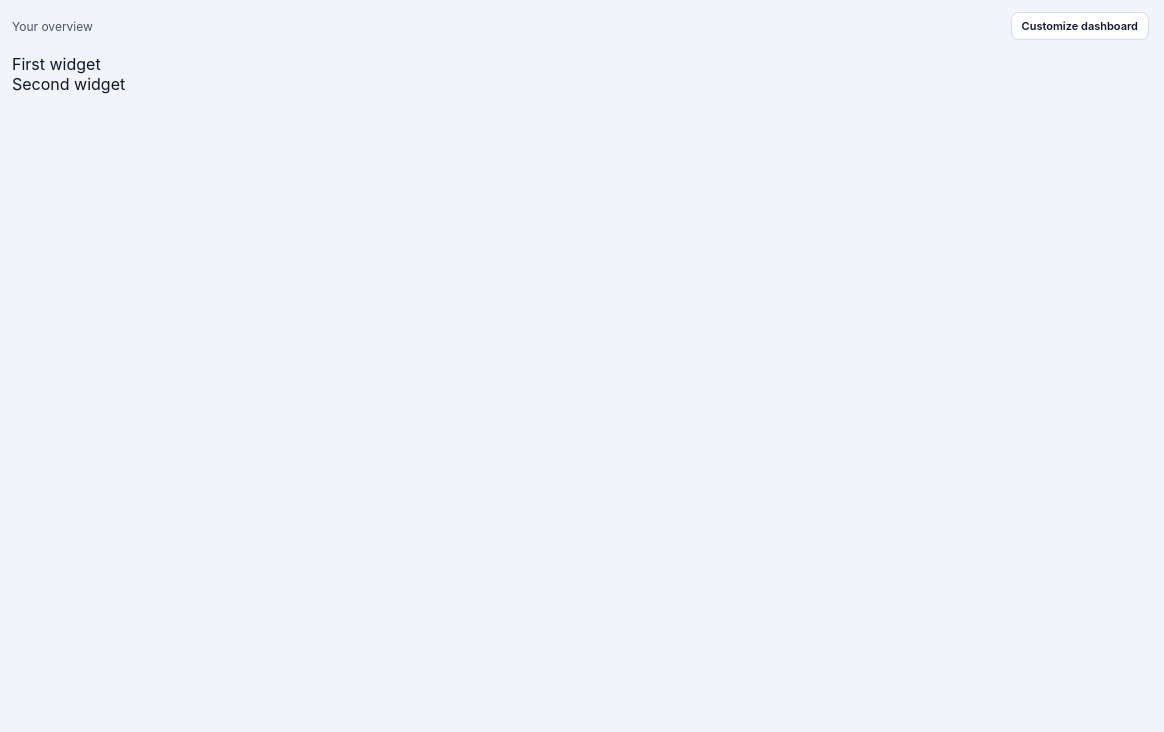
it: can undo layout reset and ignores malformed browser preferences
This screenshot has width=1164, height=732.
Click the button "Customize dashboard": click(1080, 26) [1011,12,1149,40]
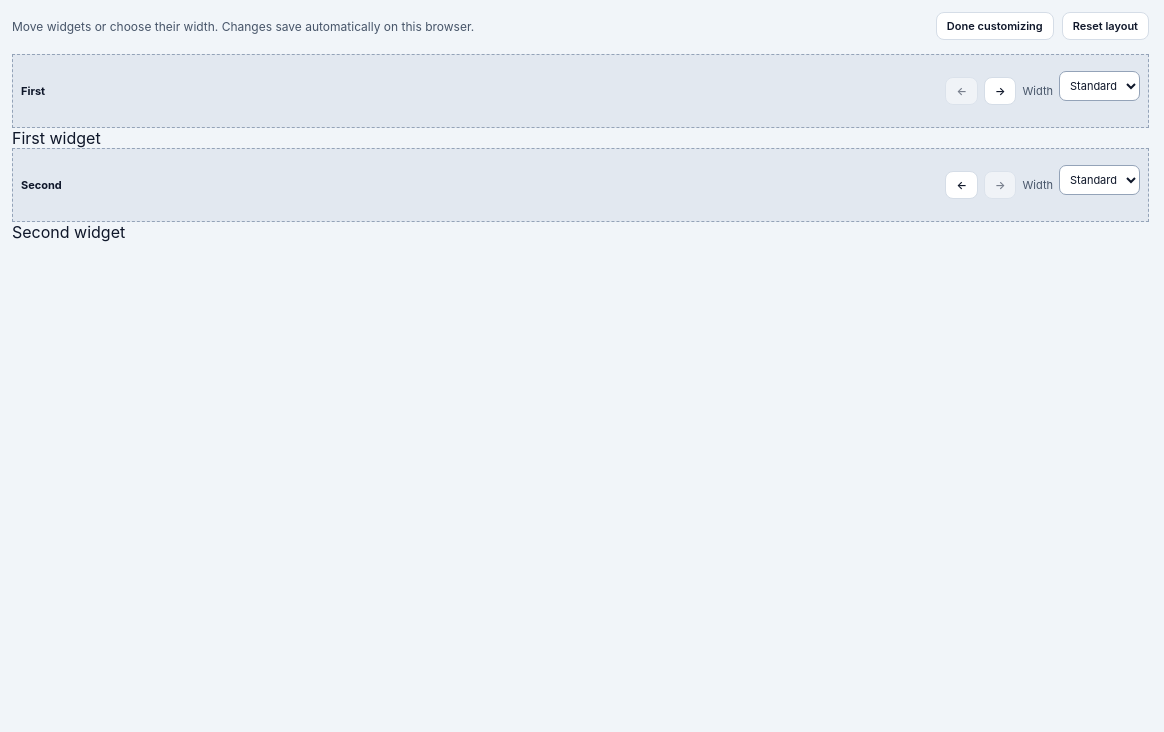
Click the button named "Move Second earlier": click(962, 185) [946,171,978,199]
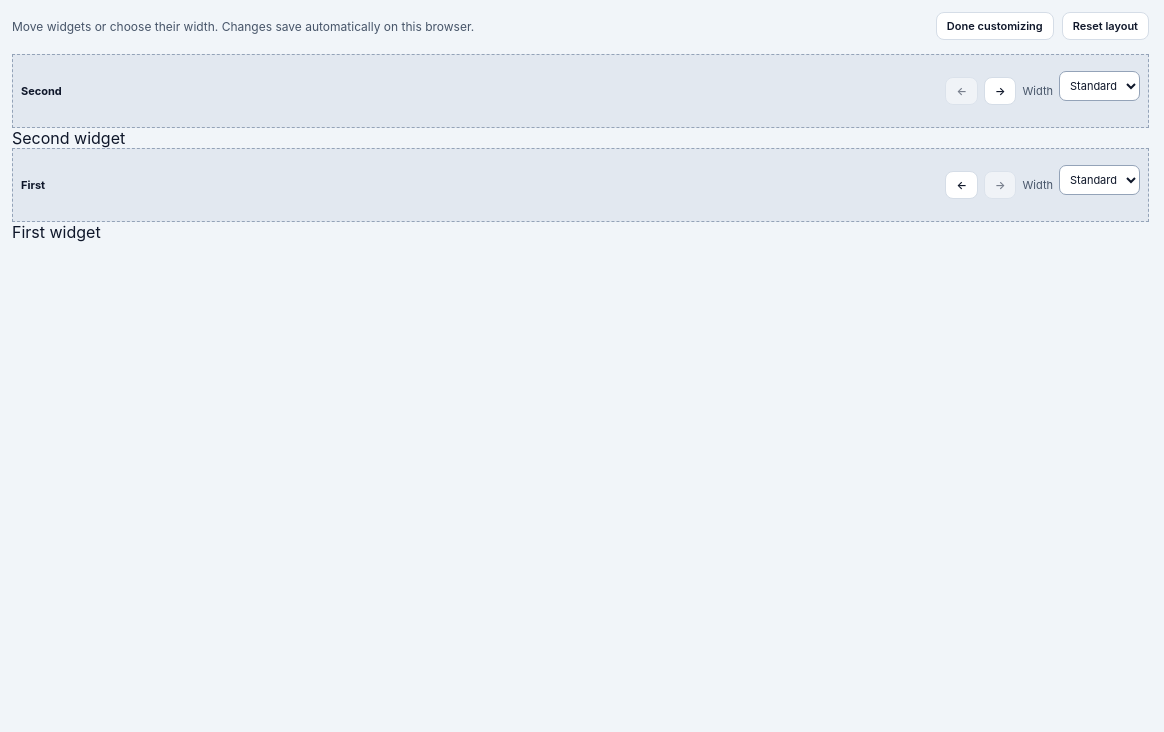
Click the button "Reset layout": click(1105, 26) [1062,12,1149,40]
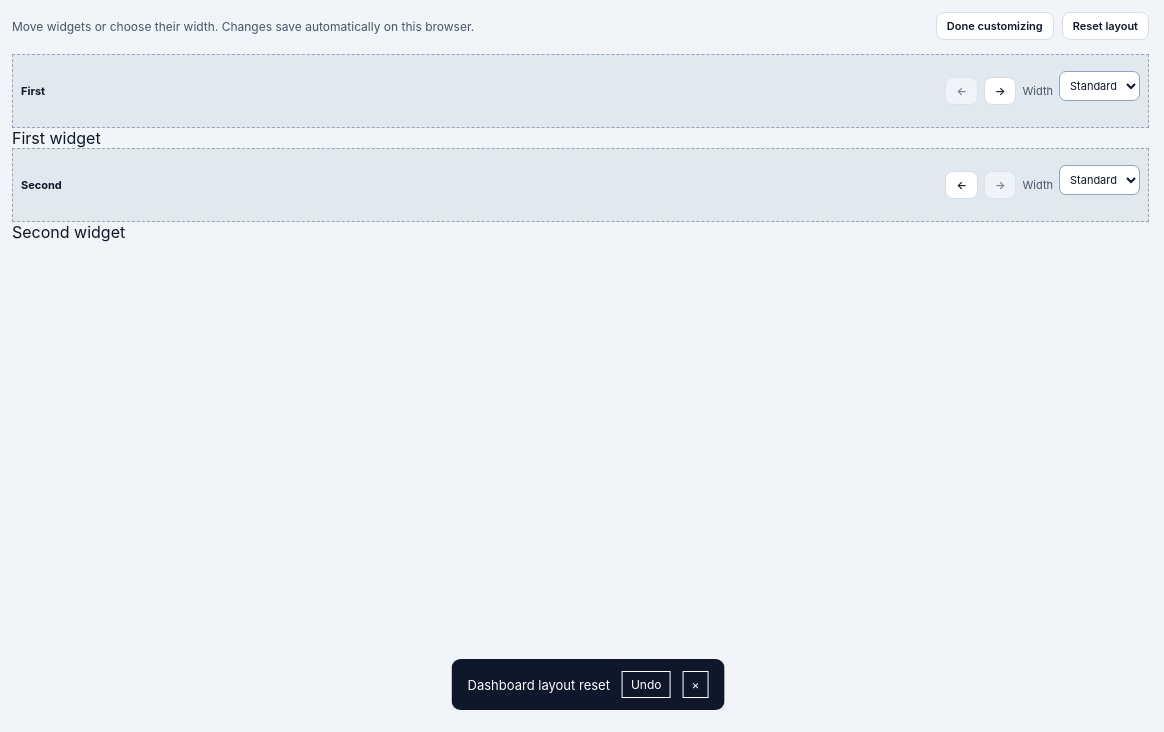
Click the button "Undo": click(646, 684) [622,671,670,698]
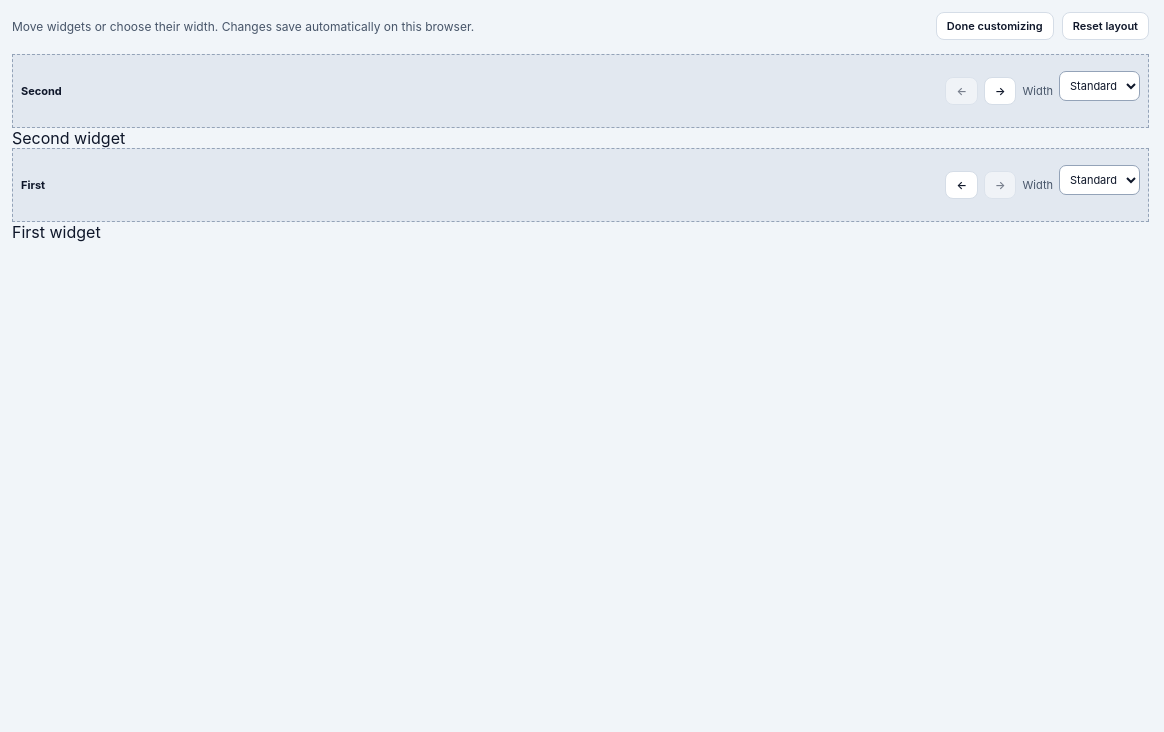
Expected: the button "Undo" is gone
